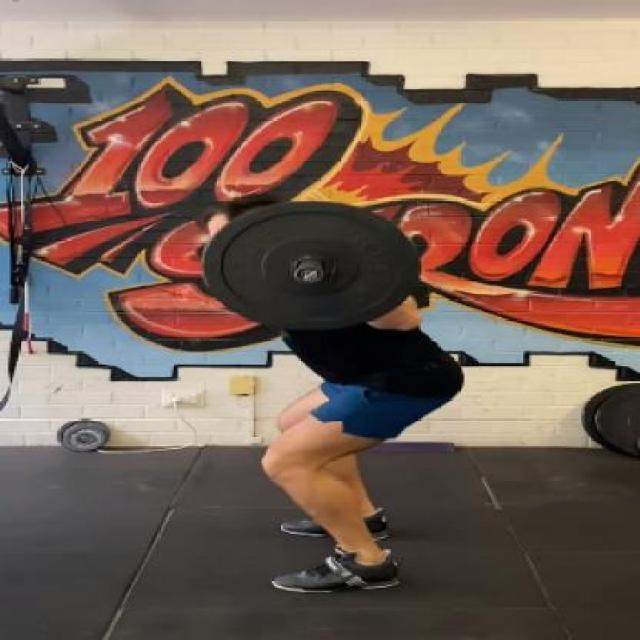Barbell: (287, 258, 330, 287)
